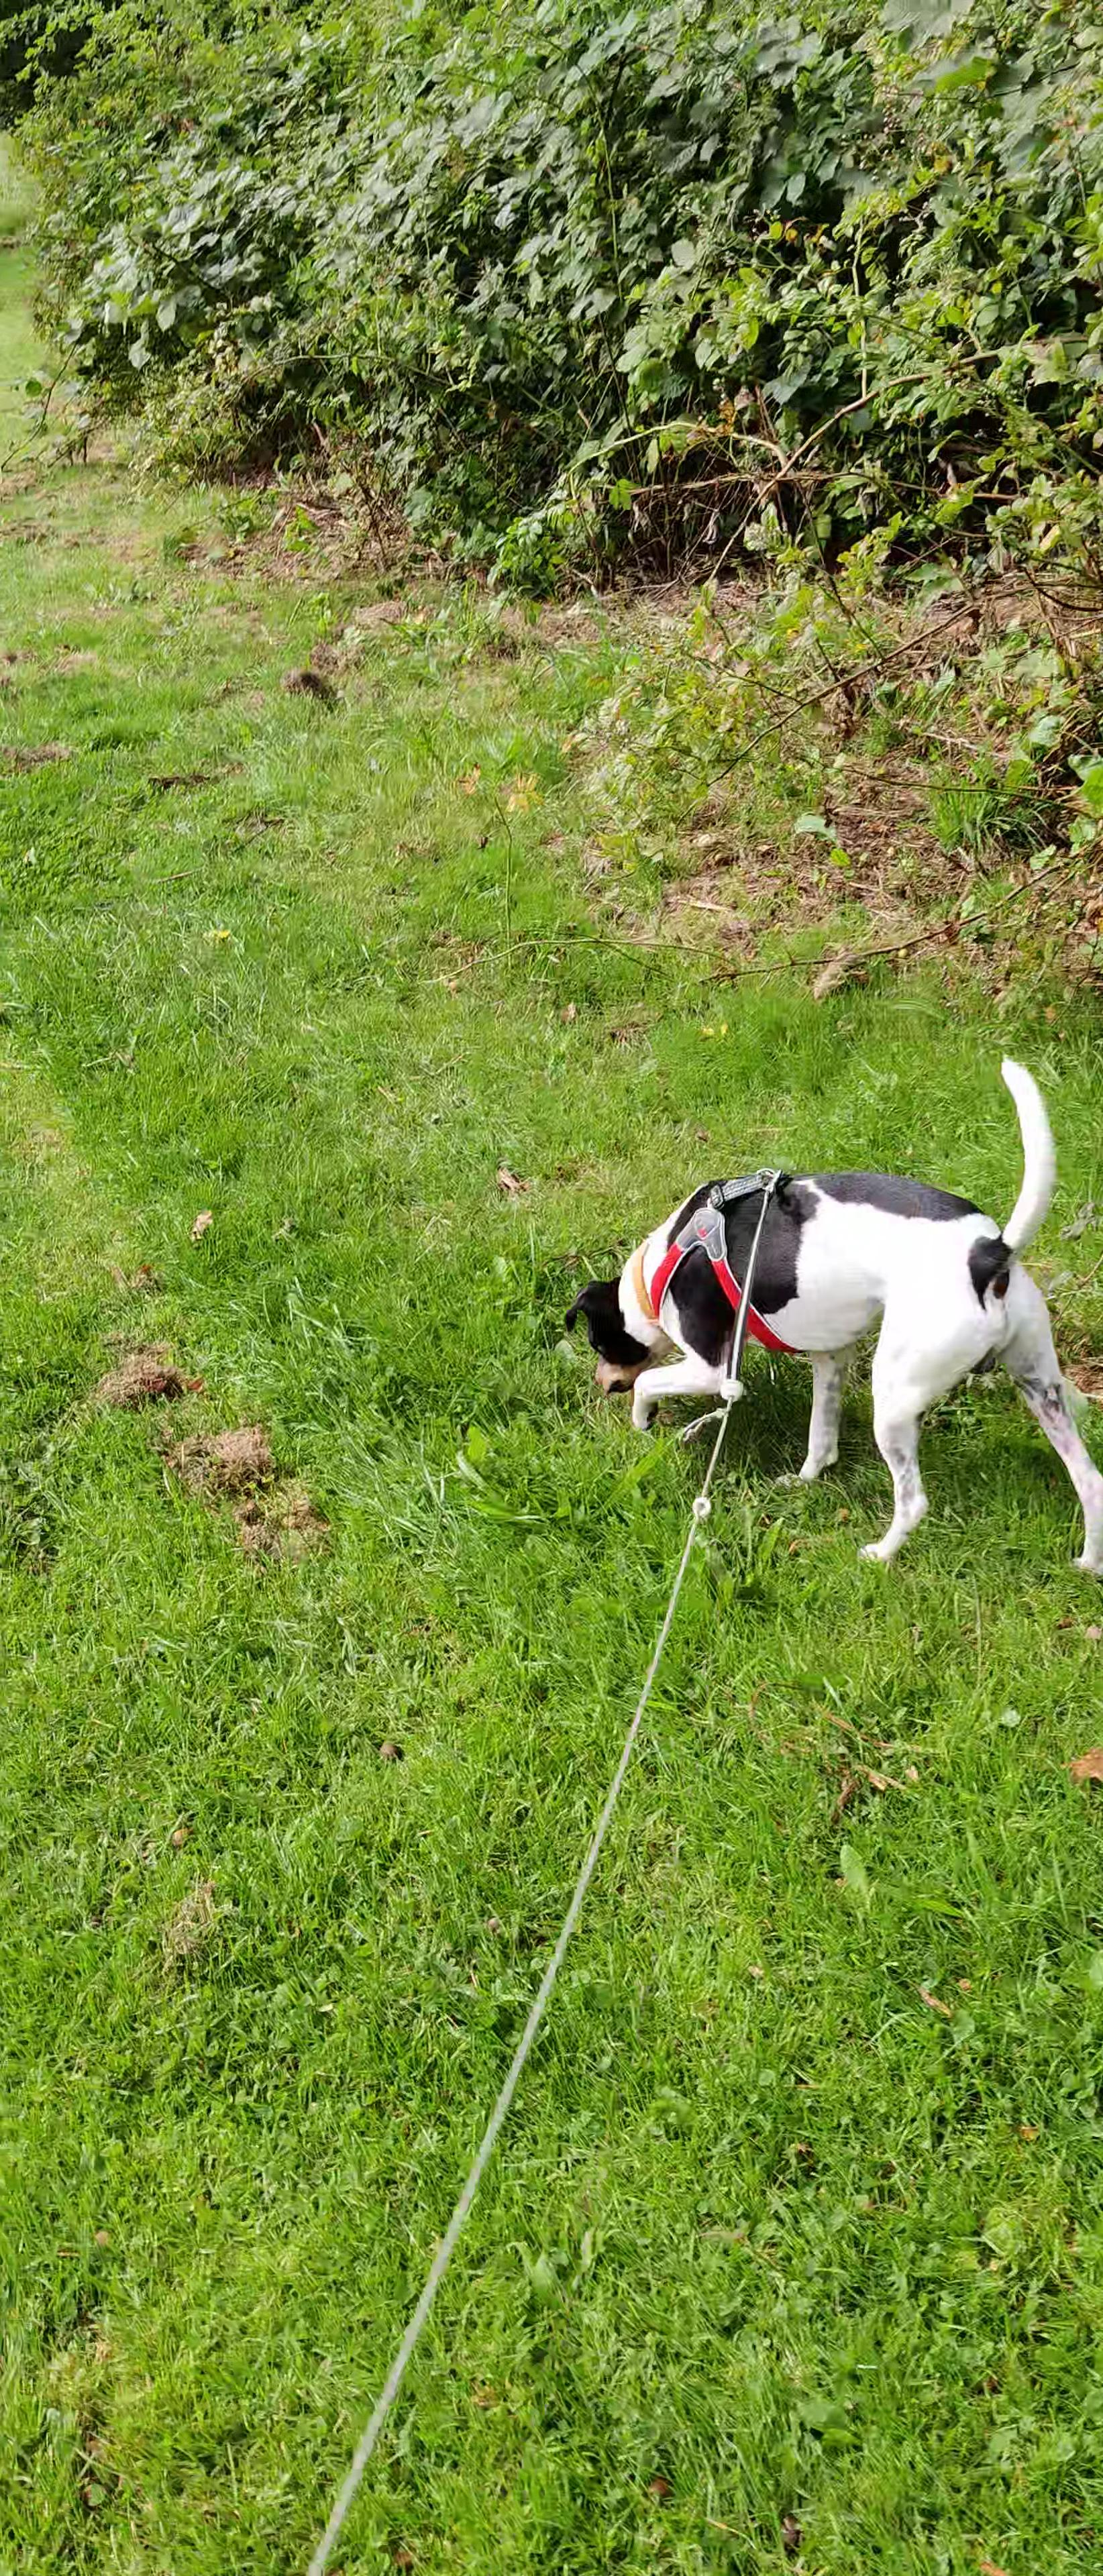Dog: (547, 1050, 1103, 1590)
